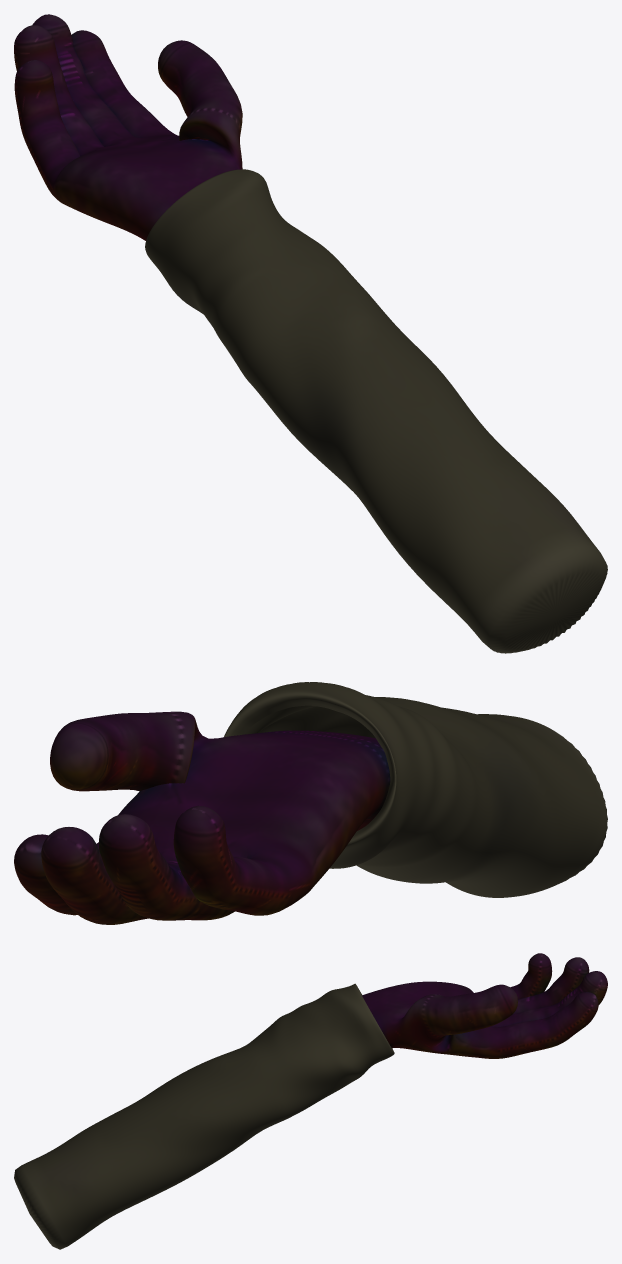
Rendered from fp_hand_R_cradle.glb.
3 renders of one model, top to bottom at view 1: azimuth 30°, elevation 25°; view 2: azimuth 150°, elevation 25°; view 3: azimuth 270°, elevation 25°, orthographic. The views are drawn at different scales.
Visible parts, largest first — view 1: fp_hand_R_cradle; view 2: fp_hand_R_cradle; view 3: fp_hand_R_cradle.
Boxes of the visible parts, x1=… form: fp_hand_R_cradle: x1=14, y1=14, x2=607, y2=653; fp_hand_R_cradle: x1=14, y1=682, x2=607, y2=924; fp_hand_R_cradle: x1=14, y1=953, x2=607, y2=1249.
Bounding box in the file's own units: 0.1418 × 0.211 × 0.4531.
Materials: 2 (1 with a texture image).
